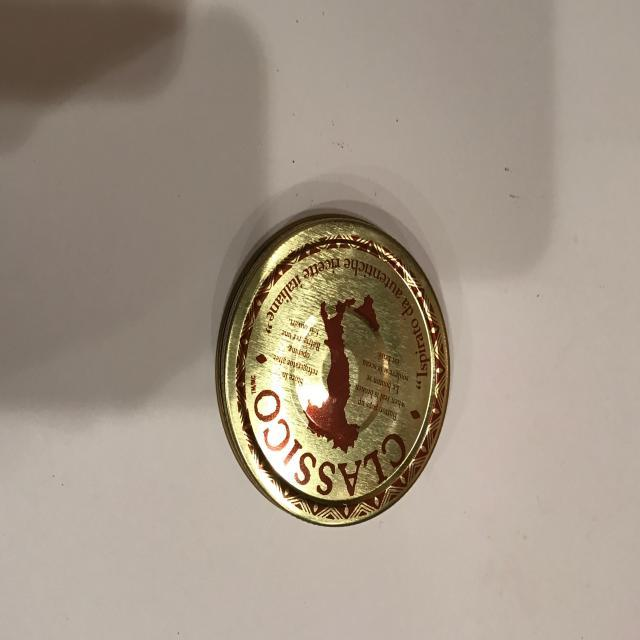metal: (212, 214, 452, 528)
